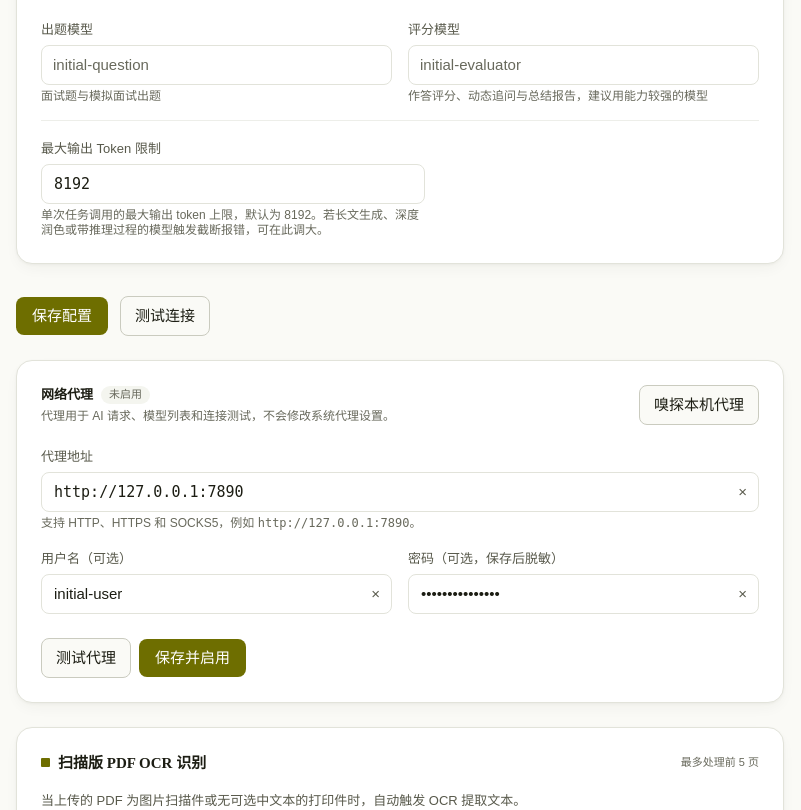
Scenario: 设置页配置与连接行为 › 代理候选填入用户名并清空旧密码，测试后保存启用与关闭使用同一配置
The width and height of the screenshot is (801, 810).
(page scrolled)
Step 1. Click the button "嗅探本机代理" → [699, 405], box [639, 385, 759, 425]
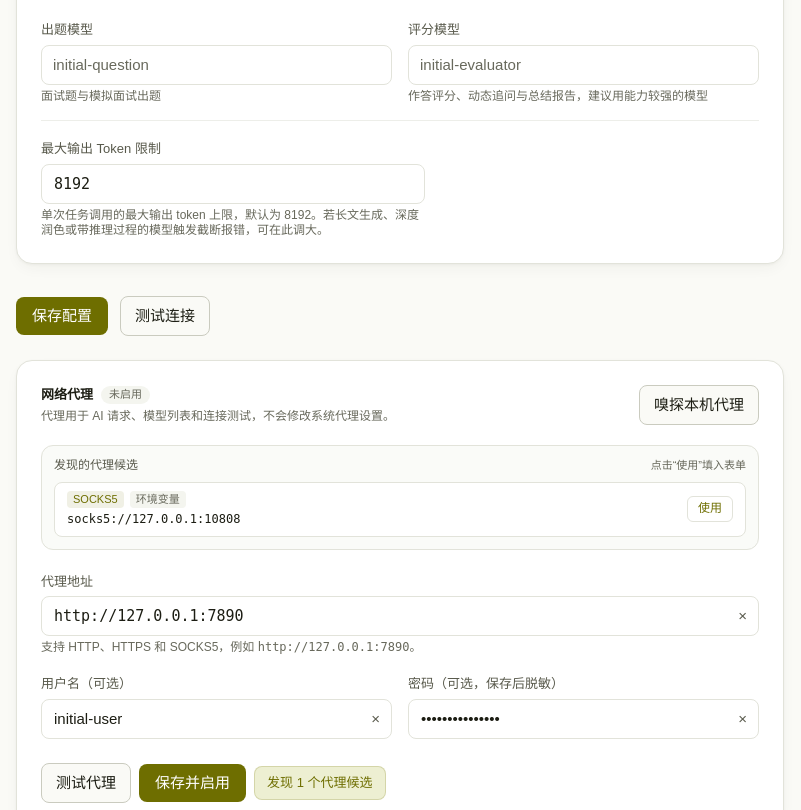
Expected: the text "发现 1 个代理候选" is shown, [254, 766, 386, 800]
Expected: the text "环境变量" is shown, [130, 491, 186, 508]
Step 2. Click the button "使用" → [710, 509], box [687, 496, 733, 522]
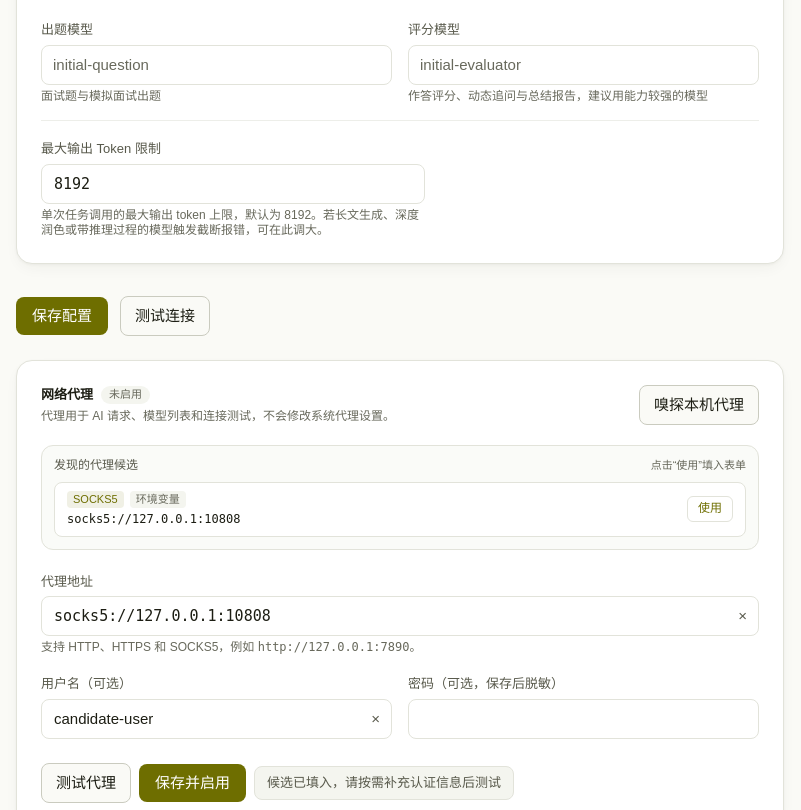
Expected: the text "候选已填入，请按需补充认证信息后测试" is shown, [254, 766, 514, 800]
Expected: the field labelled "用户名（可选）" holds "candidate-user", [41, 698, 392, 738]
Expected: the password field labelled "密码（可选，保存后脱敏）" is empty
Step 3. Type "candidate-password" into the password field labelled "密码（可选，保存后脱敏）" → [584, 718], box [408, 698, 759, 738]
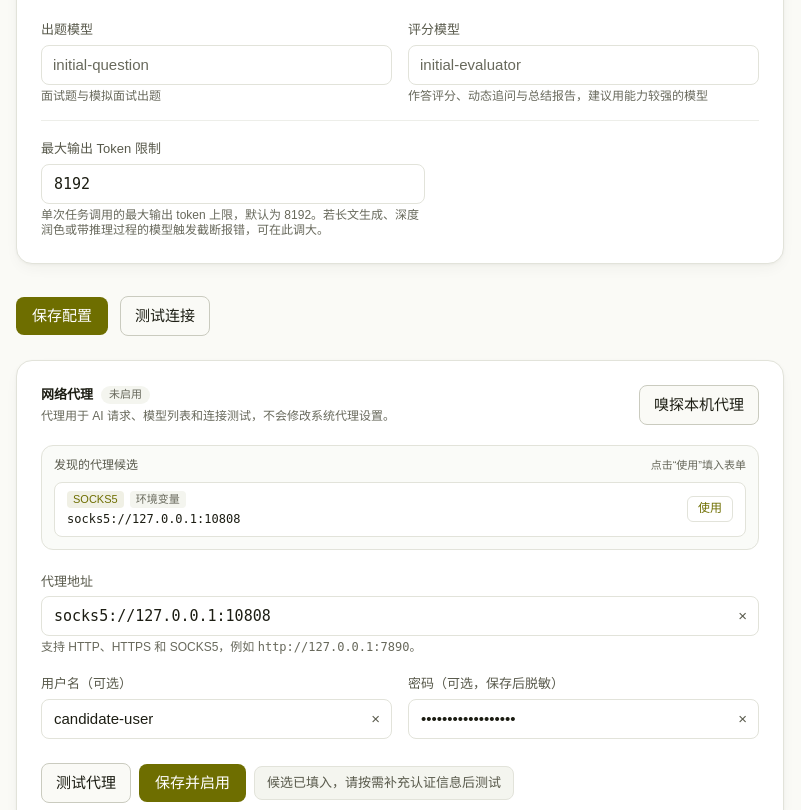
Step 4. Click the button "测试代理" → [86, 782], box [41, 762, 131, 802]
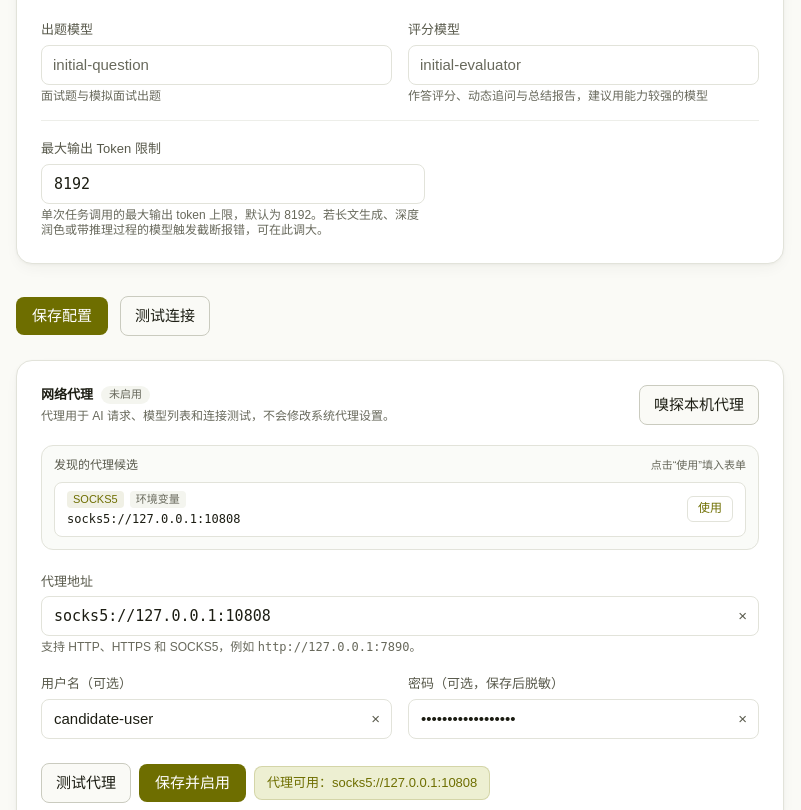
Expected: the text "代理可用：socks5://127.0.0.1:10808" is shown, [254, 766, 490, 800]
Step 5. Click the button "保存并启用" → [192, 782], box [139, 764, 246, 802]
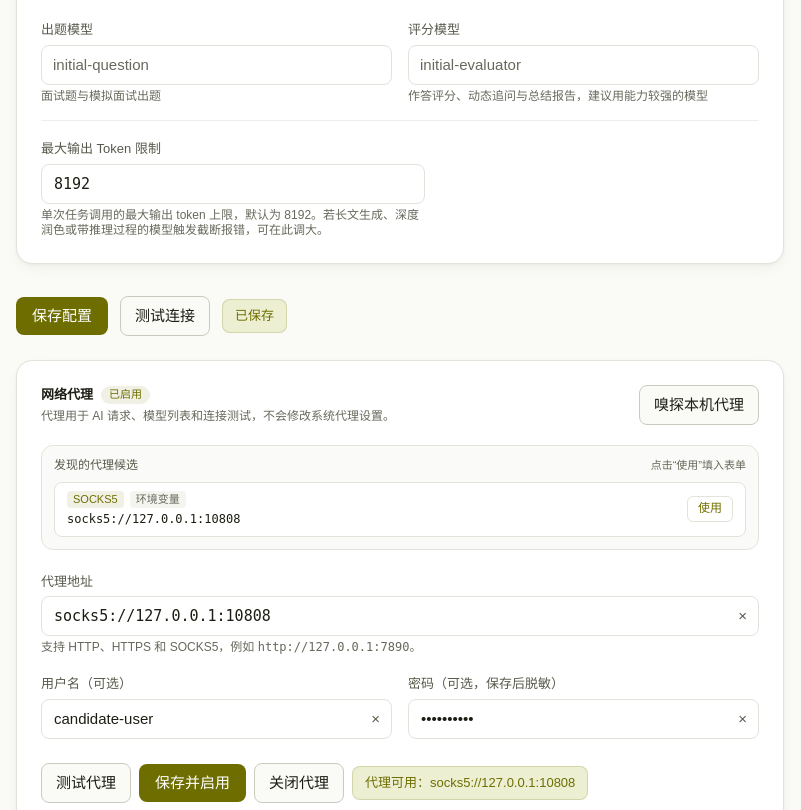
Expected: the text "已启用" is shown, [101, 386, 150, 404]
Step 6. Click the button "关闭代理" → [299, 782], box [254, 762, 344, 802]
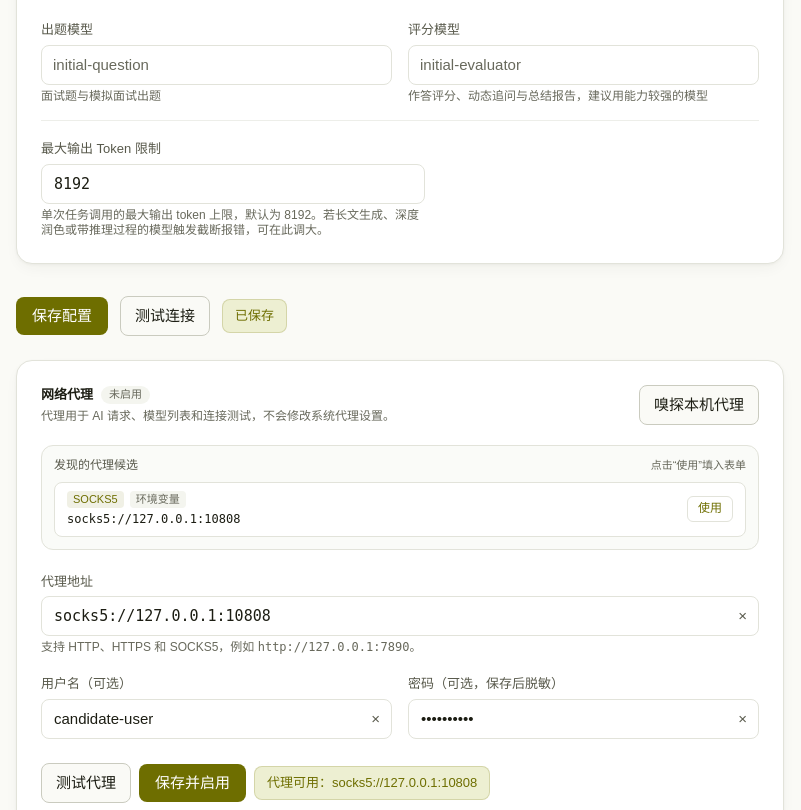
Expected: the text "未启用" is shown, [101, 386, 150, 404]
